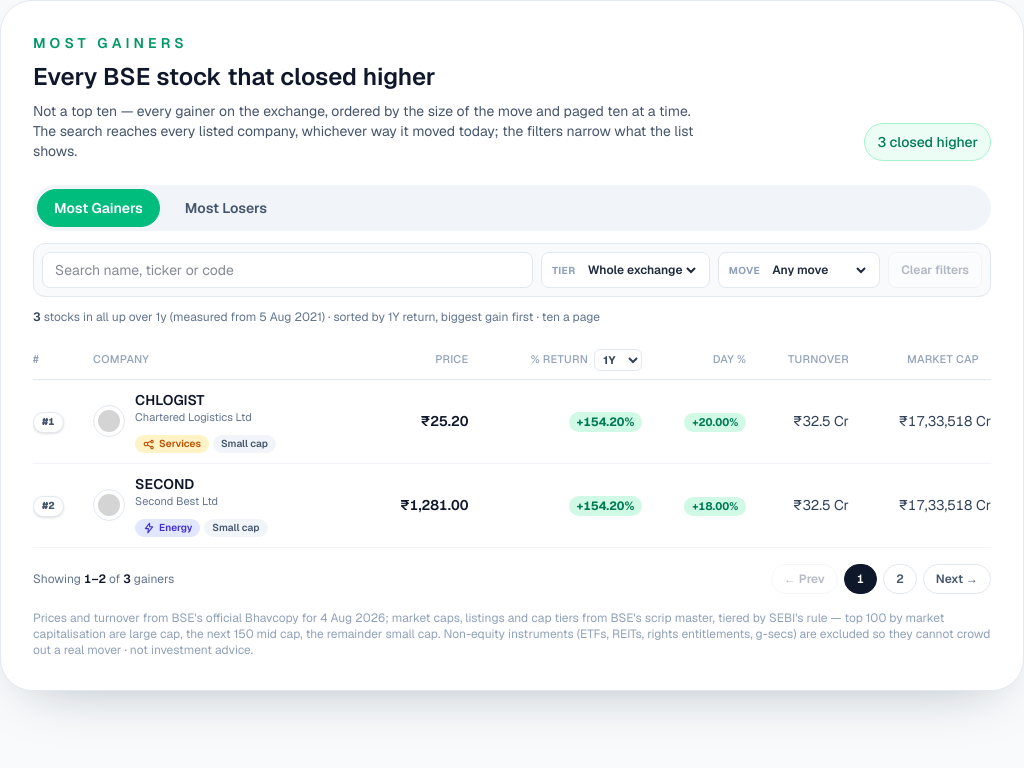
it: BseMoversBoard › closes the dropdown on Escape and when focus leaves the control
Expected: the text "CHLOGIST" is shown, x1=135 y1=391 x2=204 y2=409
In the dropdown named "Search these movers": point(287, 270) x1=42 y1=252 x2=533 y2=288, type "second"
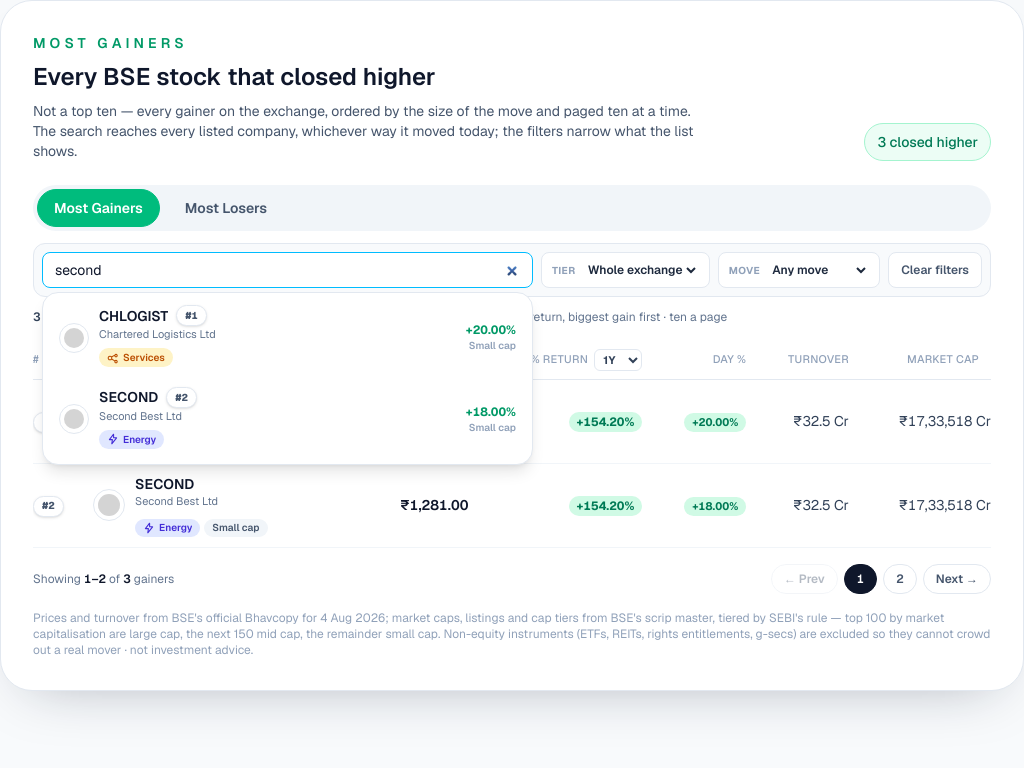
Result: the list is shown at x1=42 y1=292 x2=533 y2=465
Press Escape
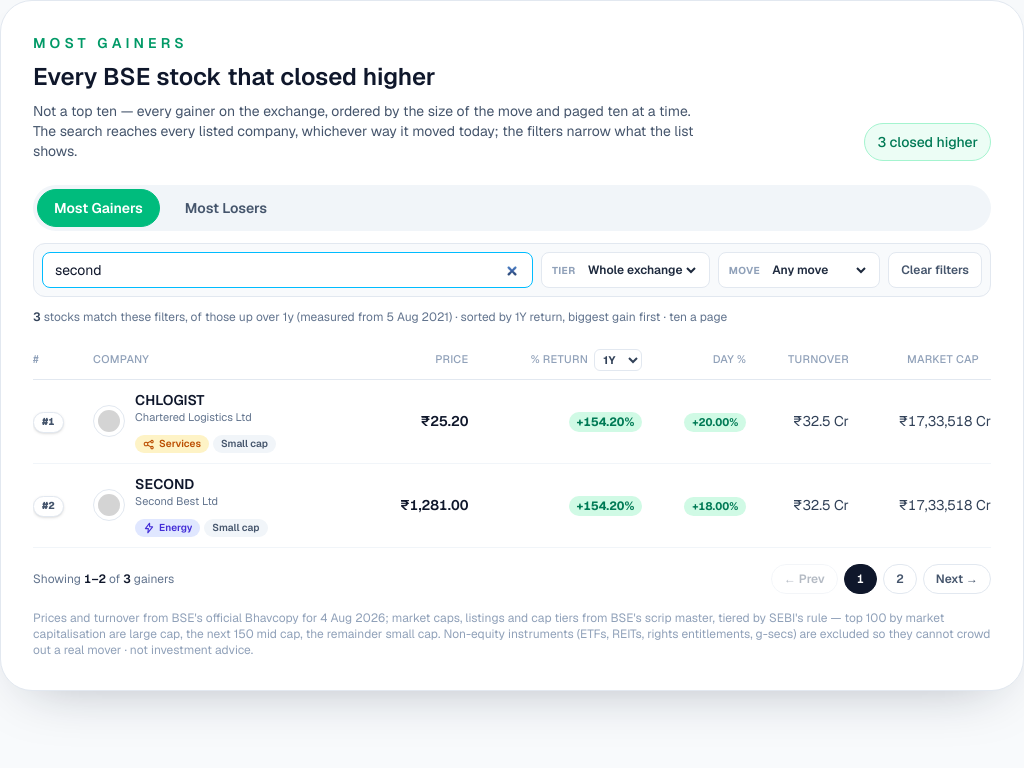
Result: the list is gone
Click the dropdown named "Search these movers": point(287, 270) x1=42 y1=252 x2=533 y2=288
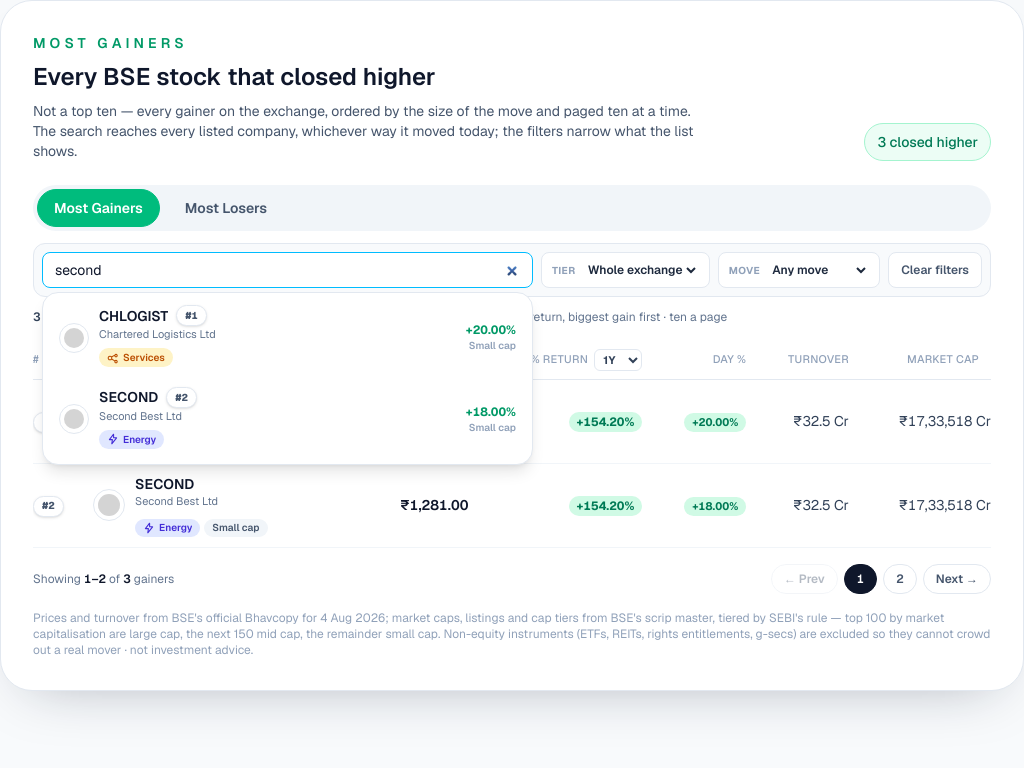
Result: the list is shown at x1=42 y1=292 x2=533 y2=465
Click the tab "Most Gainers": point(98, 208) x1=37 y1=189 x2=160 y2=227
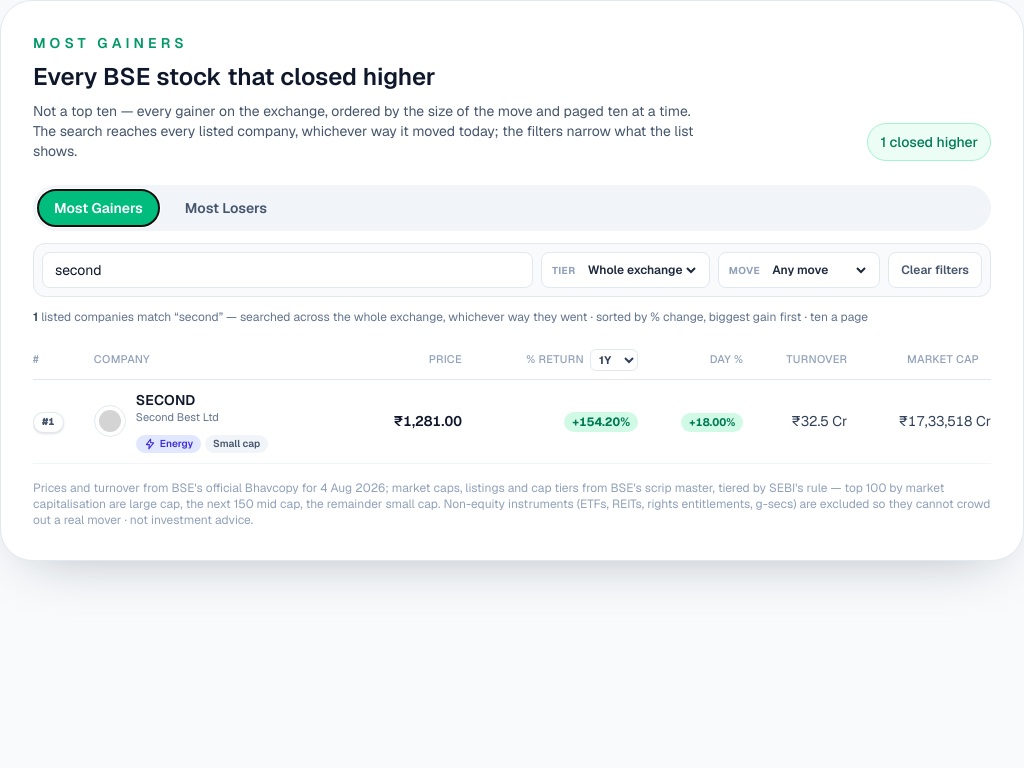
Result: the list is gone
